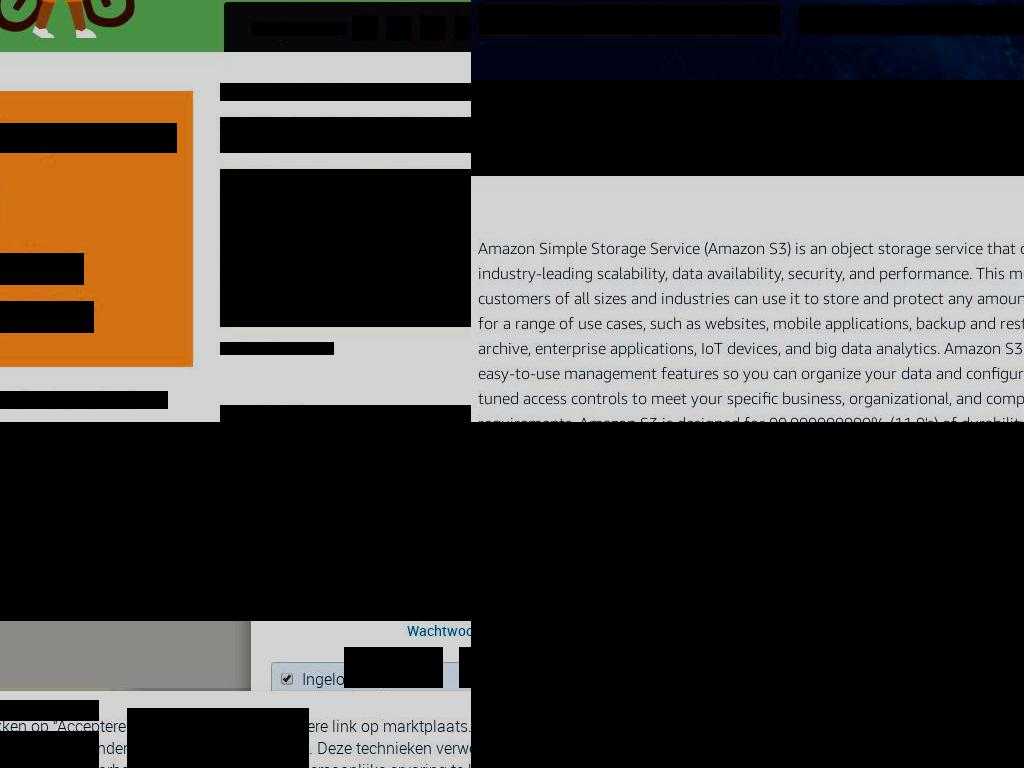button: (471, 80, 1024, 176), (127, 708, 309, 768), (478, 5, 780, 35), (220, 117, 471, 153), (325, 708, 471, 768), (271, 702, 471, 743), (799, 5, 1024, 35), (0, 731, 99, 768), (271, 623, 471, 638)
field: (271, 511, 471, 547), (271, 582, 471, 618), (281, 672, 294, 686)
heading: (490, 114, 1024, 139), (220, 83, 471, 101), (220, 405, 471, 422), (0, 391, 168, 409), (0, 700, 99, 721)
iframe: (0, 422, 471, 621)
image: (471, 422, 1024, 768), (471, 422, 1024, 739), (0, 422, 471, 768), (220, 169, 471, 327), (127, 708, 309, 768), (325, 708, 471, 768), (352, 15, 378, 41), (386, 15, 412, 41), (420, 15, 446, 41), (454, 15, 471, 41)
label: (271, 661, 471, 697), (271, 487, 471, 508), (271, 558, 471, 579)
link: (0, 301, 94, 333), (0, 253, 84, 285), (426, 755, 471, 768)
text: (478, 238, 1024, 422), (0, 715, 471, 768), (490, 139, 1024, 161), (490, 95, 1024, 114), (479, 6, 779, 34), (800, 6, 1024, 34), (0, 123, 177, 153), (344, 647, 443, 688), (302, 447, 471, 464), (304, 755, 427, 768), (0, 731, 99, 747), (380, 710, 442, 735), (0, 750, 82, 768), (251, 22, 347, 36), (269, 342, 334, 355), (220, 342, 260, 355), (260, 342, 269, 355)
